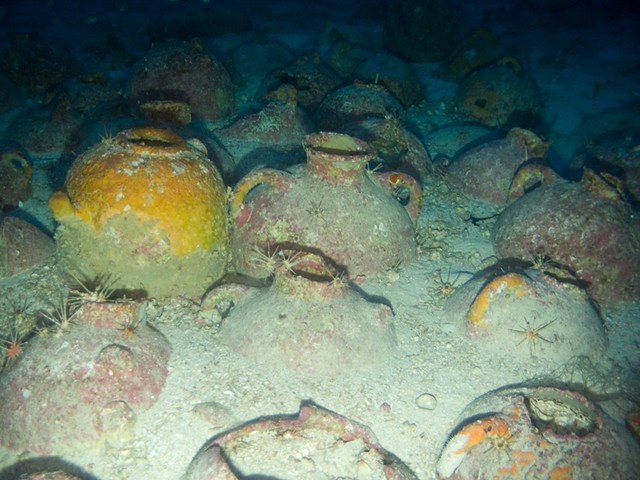amphora: (54, 127, 233, 312), (226, 129, 427, 282), (196, 254, 407, 392), (1, 294, 175, 454), (492, 160, 640, 297), (431, 383, 640, 480), (180, 400, 427, 480), (442, 260, 613, 372), (123, 37, 241, 121), (455, 58, 555, 132), (340, 114, 439, 187), (452, 128, 550, 200), (222, 90, 315, 161), (8, 91, 92, 160), (253, 53, 343, 115), (315, 85, 409, 137), (351, 51, 426, 109), (1, 211, 61, 282), (321, 34, 385, 78), (1, 145, 37, 207)
